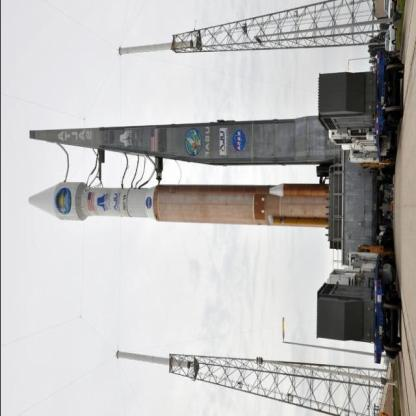MIL_TBM: (28, 179, 330, 224)
